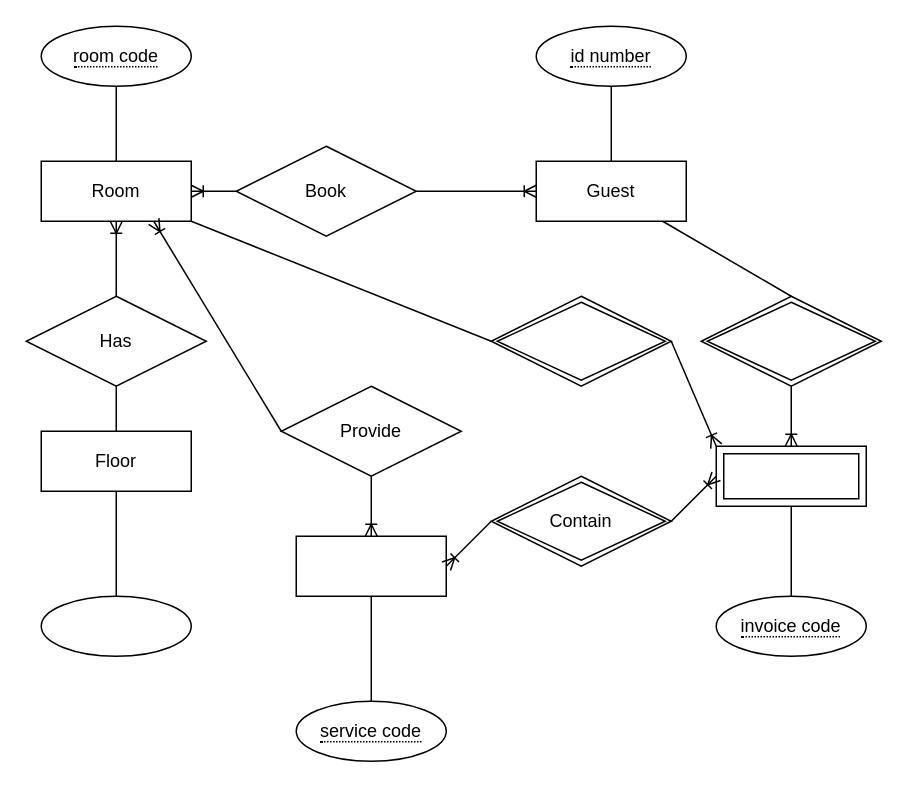
This 908x788 diagram has some shape labels left out. Each missing label, with the centre of its shape:
floor code: (115,625)
For: (580,340)
Include: (790,340)
Invoice: (790,475)
Service: (370,565)
